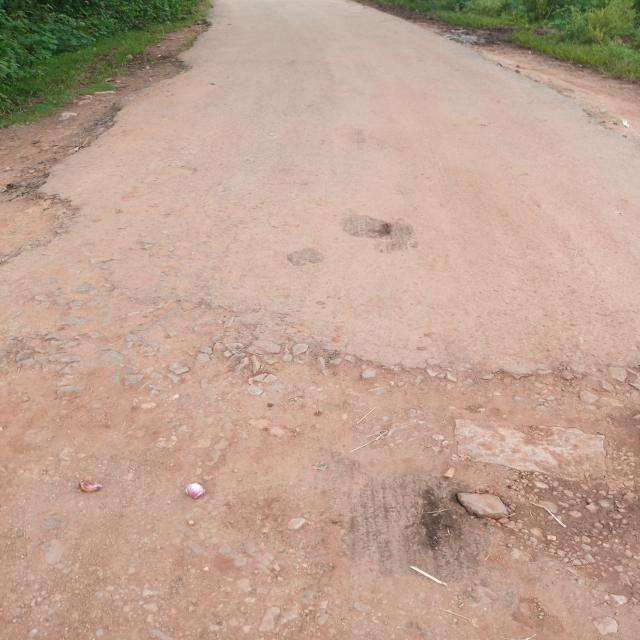cracks: (166, 310, 640, 412)
potholes: (333, 210, 400, 243), (280, 245, 324, 269)
